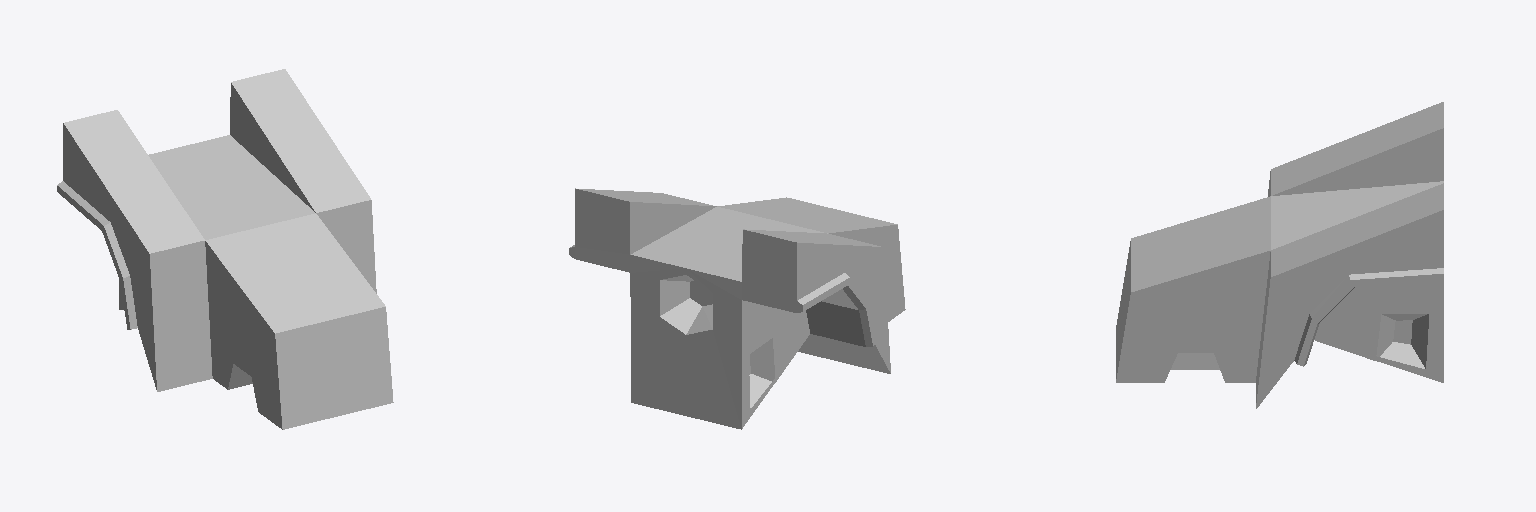
The model's file is car.obj.
3 views of the same model, side by side, from view 1: azimuth 30°, elevation 25°; view 2: azimuth 150°, elevation 25°; view 3: azimuth 270°, elevation 25° (orthographic).
Parts seen in each view (by area): view 1: car_Cube.001; view 2: car_Cube.001; view 3: car_Cube.001.
Part boxes in pixels (x1,y1,x2,y2): car_Cube.001: (57, 69, 393, 429); car_Cube.001: (569, 188, 905, 429); car_Cube.001: (1116, 102, 1443, 408).
Bounding box in the file's own units: 2.11 × 1.73 × 2.56.